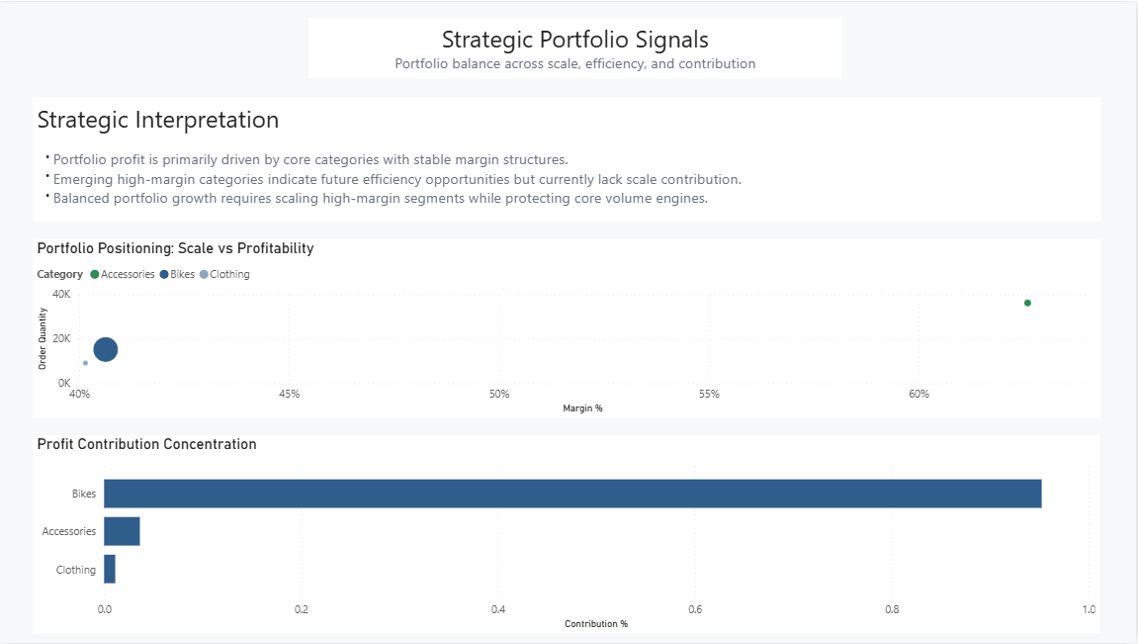

What the dashboard file says about the page in this screenshot:
{"tool":"powerbi","page":{"name":"Strategic Positioning","canvas":[1280,720],"ordinal":2},"visuals":[{"type":"scatterChart","title":"Portfolio Positioning: Scale vs Profitability","fields":{"X":["_Measures 1.Margin %"],"Y":["_Measures 1.Order Quantity"],"Size":["_Measures 1.Gross Margin"],"Series":["Product.Category"]},"box":[39.8,266.7,1200.9,200.4],"z":0},{"type":"barChart","title":"Profit Contribution Concentration","fields":{"Y":["_Measures 1.Contribution %"],"Category":["Product.Category"]},"box":[39.8,486.7,1199.3,222.7],"z":1000},{"type":"textbox","box":[349.9,17.5,599.7,70],"z":2000},{"type":"textbox","box":[39.8,107.1,1200.9,140],"z":3000}]}

Visuals, with their boxes in screenshot pixels (x1, y1, x2, y2), scaled from the page's 1280x720 canvas onto the 1138x644 screenshot:
"Portfolio Positioning: Scale vs Profitability" scatterChart: <region>35, 239, 1103, 418</region>
"Profit Contribution Concentration" barChart: <region>35, 435, 1102, 635</region>
textbox: <region>311, 16, 844, 78</region>
textbox: <region>35, 96, 1103, 221</region>
